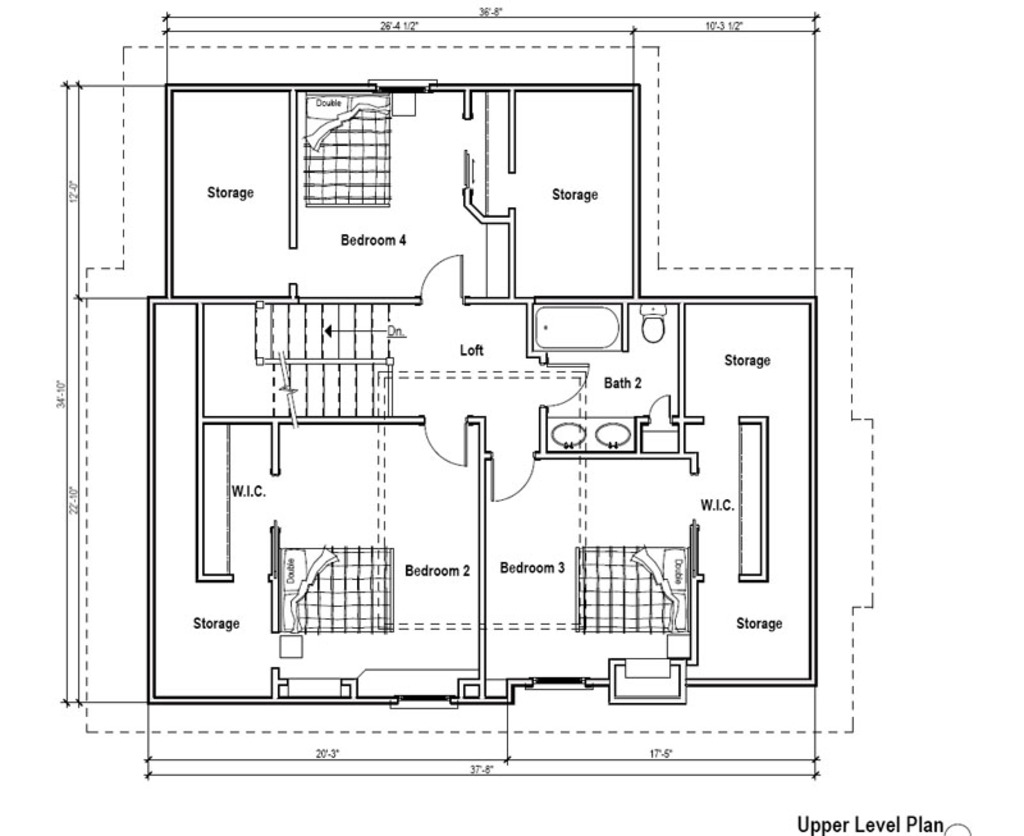bed: (271, 546, 403, 648), (568, 538, 687, 641), (301, 86, 393, 217)
door: (480, 446, 540, 507), (412, 245, 465, 314), (417, 410, 474, 471), (533, 358, 590, 409), (646, 389, 671, 434)
large_sink: (636, 302, 670, 350)
small_sink: (536, 409, 639, 457)
stairs: (198, 298, 403, 423)
tub: (523, 302, 632, 355)
